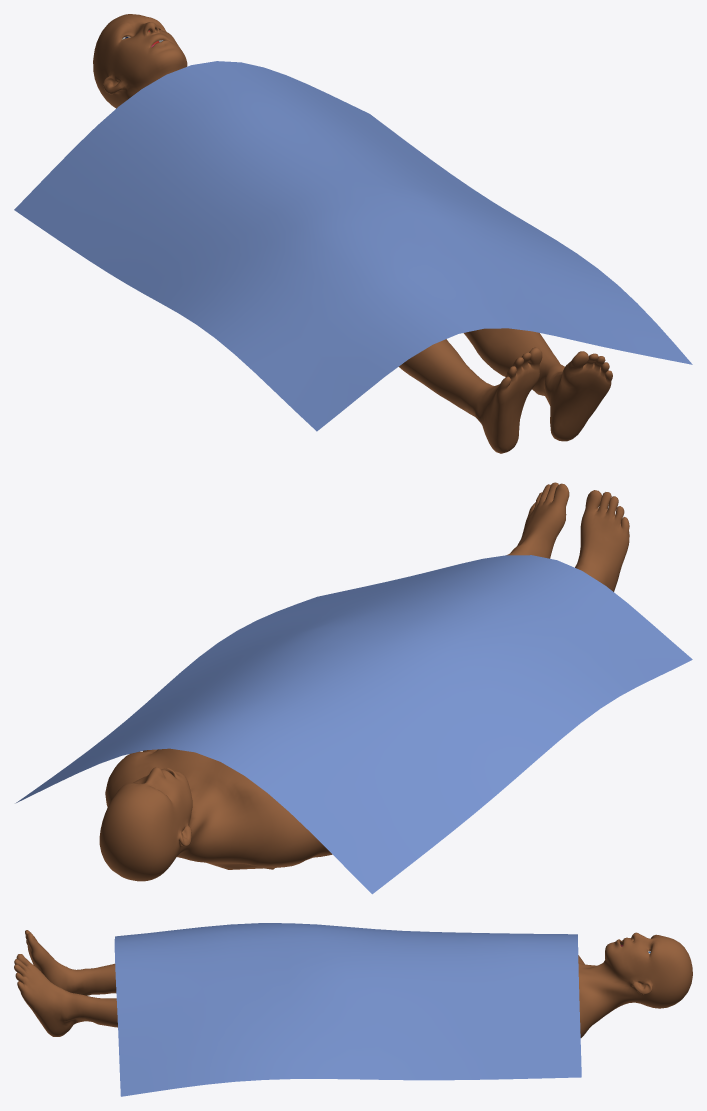
The model's file is personaje1.fbx.
The picture shows the model from 3 angles, top to bottom: view 1: azimuth 30°, elevation 25°; view 2: azimuth 150°, elevation 25°; view 3: azimuth 270°, elevation 25°; orthographic projection. The views are drawn at different scales.
Parts seen in each view (by area): view 1: Plano, Body_Patient_0, Body_L; view 2: Plano, Body_L, Body_Patient_0; view 3: Plano, Body_L, Body_Patient_0.
Boxes of the visible parts, left/top/right/bottom form: Plano: left=14, top=61, right=692, bottom=431; Body_Patient_0: left=399, top=328, right=612, bottom=453; Body_L: left=93, top=14, right=187, bottom=108; Plano: left=15, top=555, right=692, bottom=894; Body_L: left=99, top=748, right=332, bottom=881; Body_Patient_0: left=506, top=482, right=629, bottom=591; Plano: left=114, top=923, right=581, bottom=1096; Body_L: left=578, top=932, right=692, bottom=1037; Body_Patient_0: left=14, top=930, right=117, bottom=1036.
Size of the model in its own units: 8967 by 3028 by 18691.
